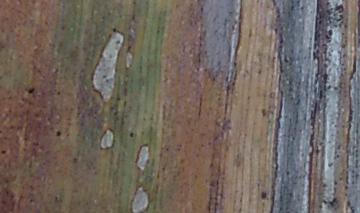tarspot: (333, 2, 345, 13), (329, 195, 337, 206), (260, 190, 268, 201), (127, 130, 136, 138), (28, 85, 35, 95), (327, 26, 333, 36), (1, 147, 8, 155), (55, 129, 62, 137), (321, 197, 329, 204), (55, 89, 62, 96), (111, 26, 118, 33)
